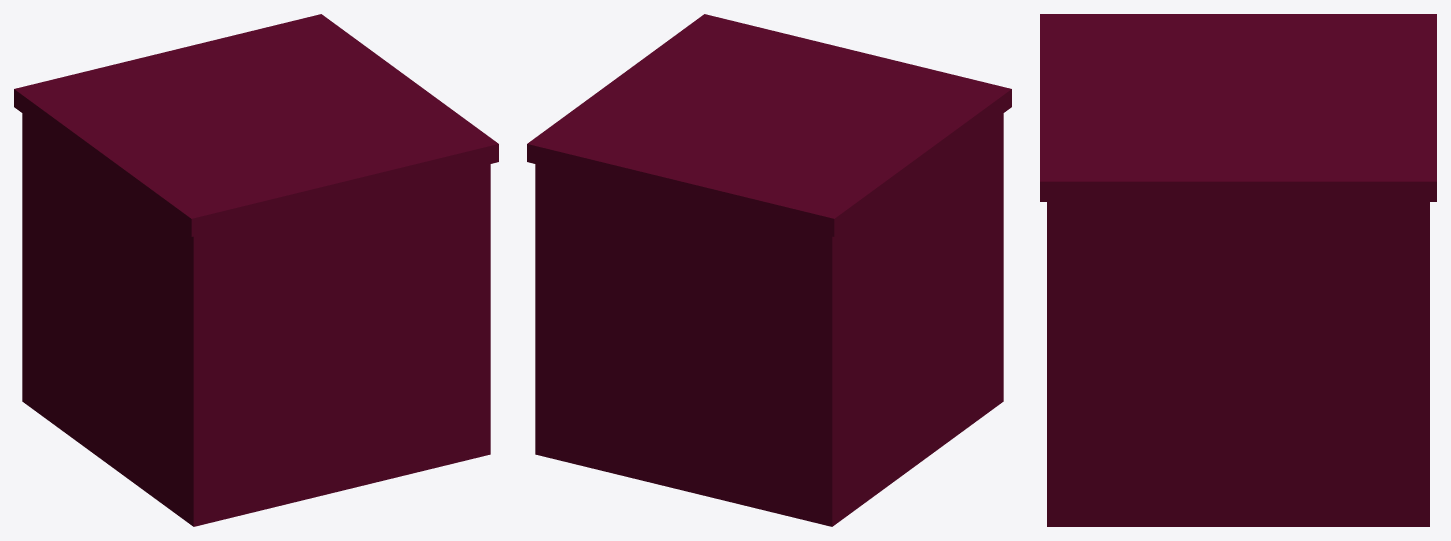
Rendered from caisson.glb.
3 views of the same model, side by side, from view 1: azimuth 30°, elevation 25°; view 2: azimuth 150°, elevation 25°; view 3: azimuth 270°, elevation 25° (orthographic). The views are drawn at different scales.
Parts seen in each view (by area): view 1: Caisson; view 2: Caisson; view 3: Caisson.
Boxes of the visible parts, x1=… form: Caisson: x1=14, y1=14, x2=498, y2=526; Caisson: x1=527, y1=14, x2=1011, y2=526; Caisson: x1=1040, y1=14, x2=1436, y2=526.
Bounding box in the file's own units: 0.8612 × 0.8341 × 0.8612.
